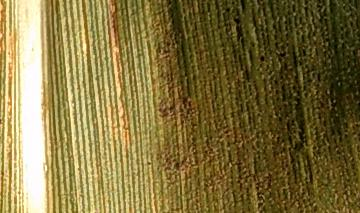tarspot: (254, 51, 270, 65)
